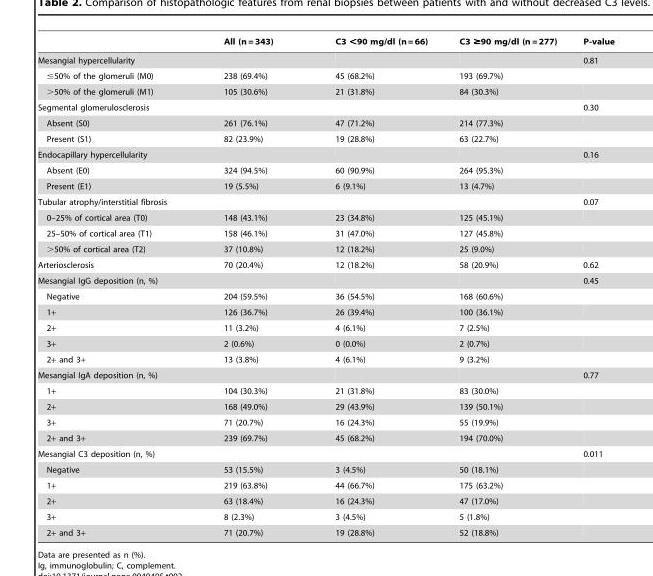table: (37, 36, 613, 537)
table column: (37, 36, 194, 537), (303, 36, 442, 537), (442, 36, 569, 537), (194, 36, 303, 537), (569, 36, 613, 537)
table column header: (37, 36, 613, 50)
table row: (37, 50, 613, 67), (37, 350, 613, 367), (37, 429, 613, 446), (37, 67, 613, 83), (37, 83, 613, 99), (37, 99, 613, 115), (37, 130, 613, 146), (37, 146, 613, 162), (37, 162, 613, 178), (37, 193, 613, 209), (37, 209, 613, 225), (37, 225, 613, 241), (37, 256, 613, 272), (37, 272, 613, 288), (37, 318, 613, 334), (37, 334, 613, 350), (37, 381, 613, 397), (37, 397, 613, 413), (37, 413, 613, 429), (37, 476, 613, 492), (37, 507, 613, 523), (37, 115, 613, 130), (37, 178, 613, 193), (37, 241, 613, 256), (37, 288, 613, 303), (37, 303, 613, 318), (37, 446, 613, 461), (37, 461, 613, 476), (37, 492, 613, 507), (37, 36, 613, 50), (37, 367, 613, 381), (37, 523, 613, 537)
